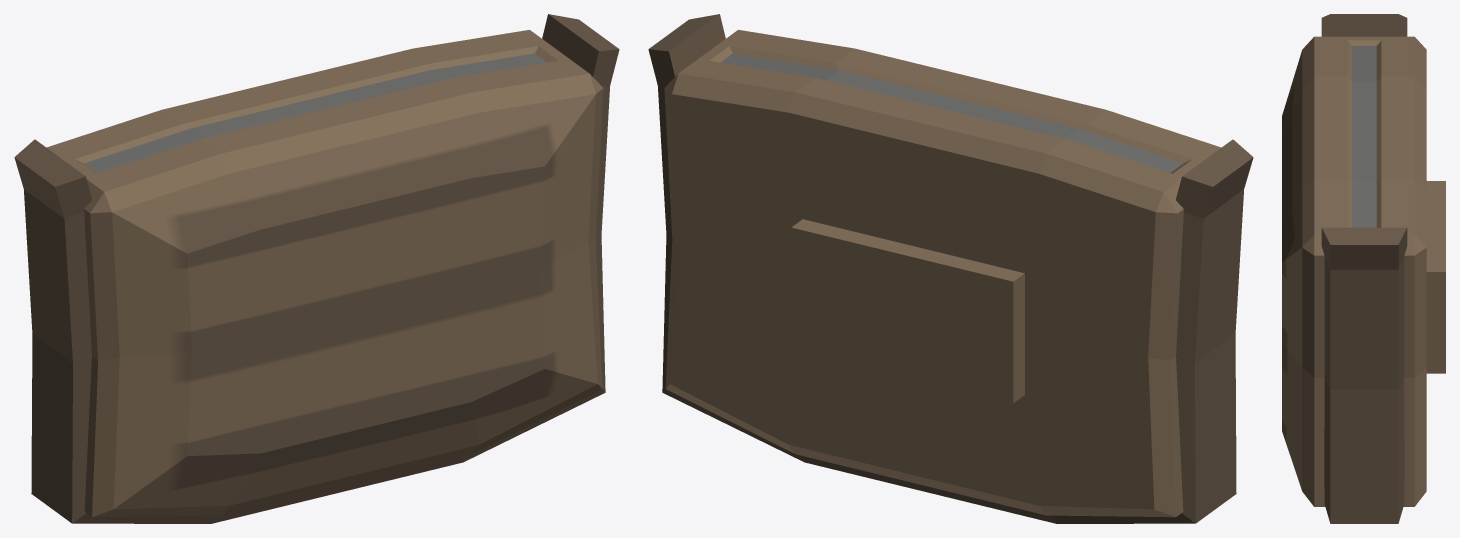
File: Pouch_08_SM.FBX
3 views of the same model, side by side, from view 1: azimuth 30°, elevation 25°; view 2: azimuth 150°, elevation 25°; view 3: azimuth 270°, elevation 25° (orthographic). The views are drawn at different scales.
Visible parts, largest first — view 1: Pouch_08_SM; view 2: Pouch_08_SM; view 3: Pouch_08_SM.
Boxes of the visible parts, x1,y1,x2,y2 form: Pouch_08_SM: (14, 14, 619, 523); Pouch_08_SM: (648, 14, 1253, 523); Pouch_08_SM: (1282, 14, 1445, 523).
Size of what is drawn, in the model's own units: 18.08 by 5.42 by 11.72.
